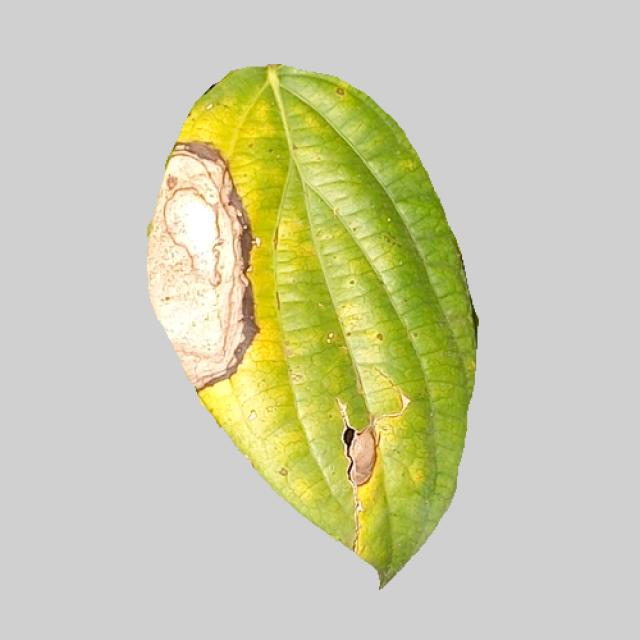leaf-blight: (127, 77, 490, 592)
